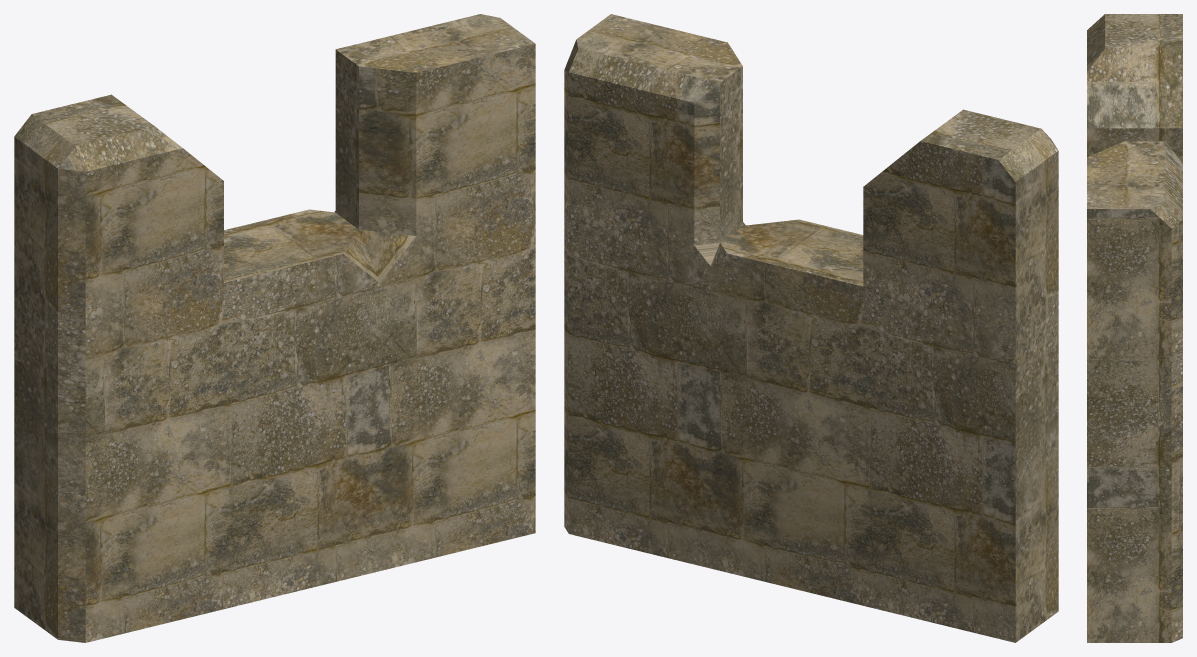
The model's file is wall5.fbx.
3 views of the same model, side by side, from view 1: azimuth 30°, elevation 25°; view 2: azimuth 150°, elevation 25°; view 3: azimuth 270°, elevation 25° (orthographic). The views are drawn at different scales.
Parts seen in each view (by area): view 1: Wall5; view 2: Wall5; view 3: Wall5.
Boxes of the visible parts, <box> form: Wall5: <box>14,14,535,642</box>; Wall5: <box>564,14,1058,642</box>; Wall5: <box>1087,14,1182,642</box>.
Bounding box in the file's own units: 500 × 500 × 100.
